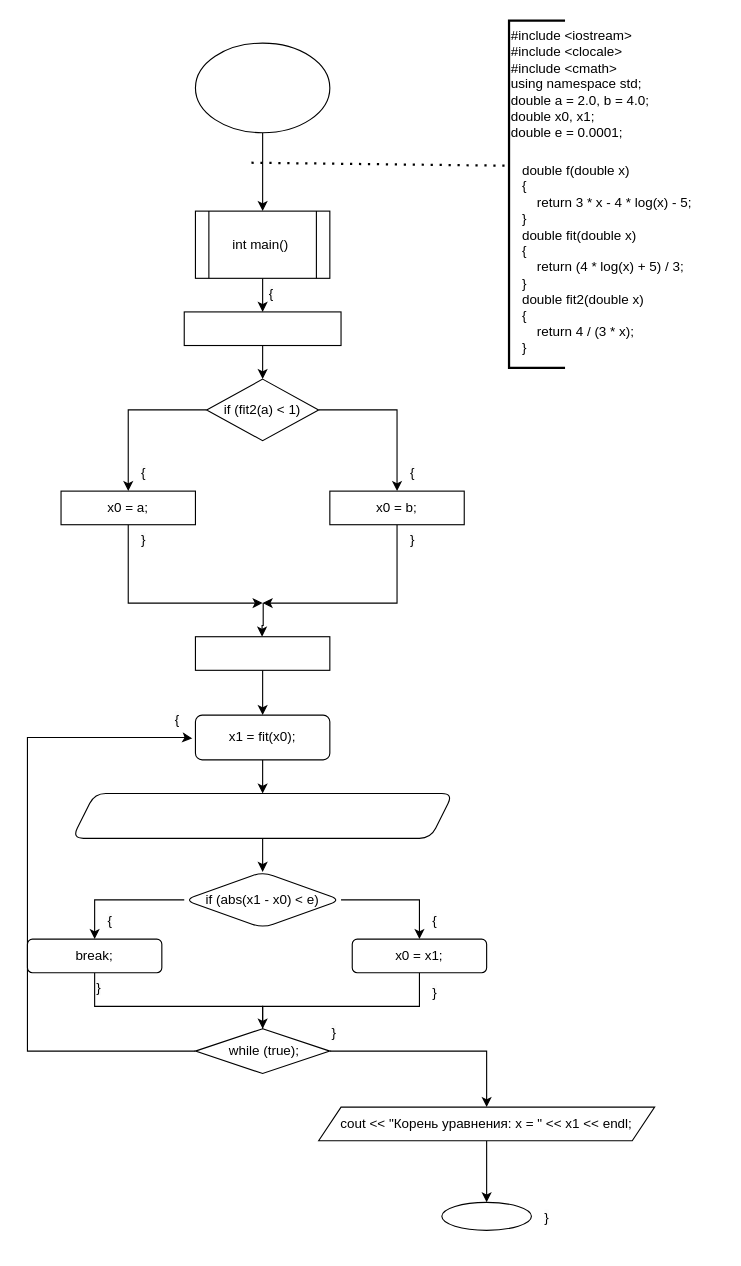
Image size: 741x1266. Some labels were removed from this diagram. The centre of each missing label's shape, as x and y in pixels:
cout << "Итерация " << ++i << ": x = " << x1 << endl;: [262,815]
int i = 1;: [262,653]
return 0;: [486,1215]
setlocale(LC_ALL, "ru");: [262,328]
Начало: [262,87]
